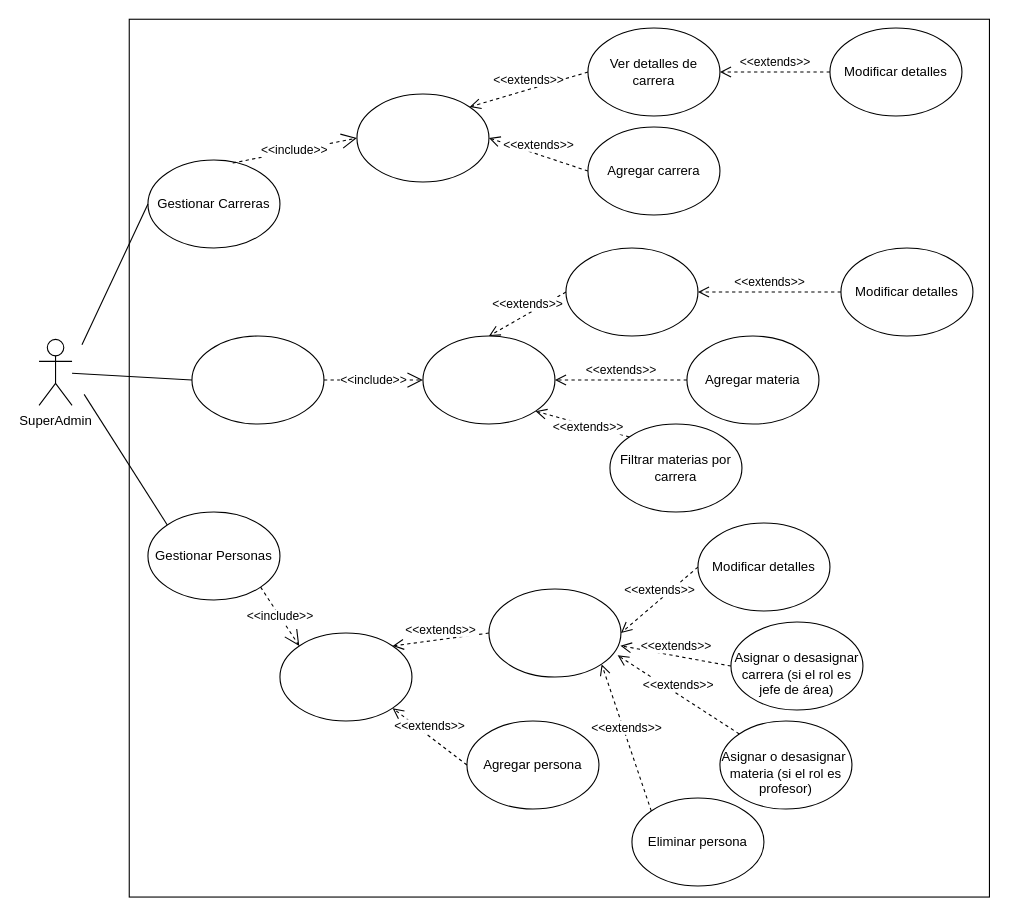
The diagram is 1009 pixels wide and 916 high, and some of its shapes have lost their labels. Each missing label, with the box of its shape:
Acceder a la lista de carreras: (356, 93, 489, 182)
Acceder a la lista de materias: (422, 335, 555, 424)
Acceder a la lista de personas: (279, 632, 412, 721)
Gestionar Materias: (191, 335, 324, 424)
Ver detalles de materia: (565, 247, 698, 336)
Ver detalles de persona: (488, 588, 621, 677)
